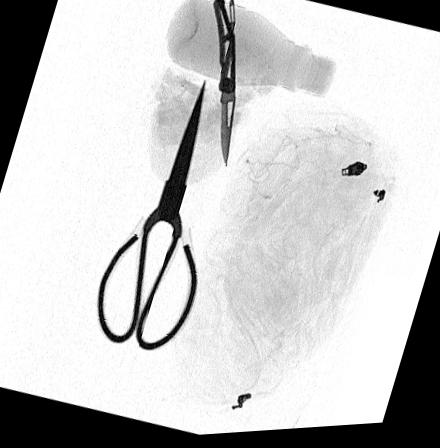Knife: (213, 0, 235, 170)
Scissors: (97, 79, 206, 352)
